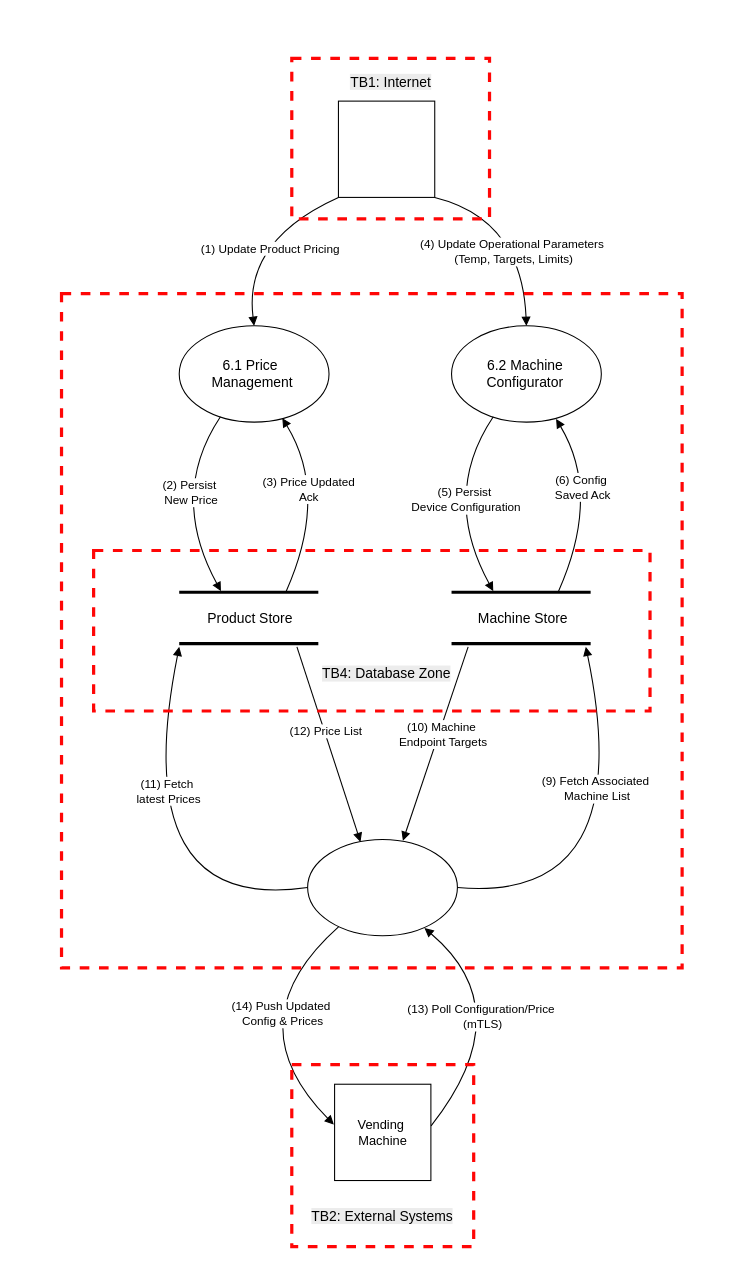
Some shapes in this 732 by 1285 pixel diagram are drawn without their labels. The centre of each missing label's shape, as x and y in pixels:
"6.3 Sync & Deployment" goes at pixel 382 887.
"Administrator" goes at pixel 386 148.
